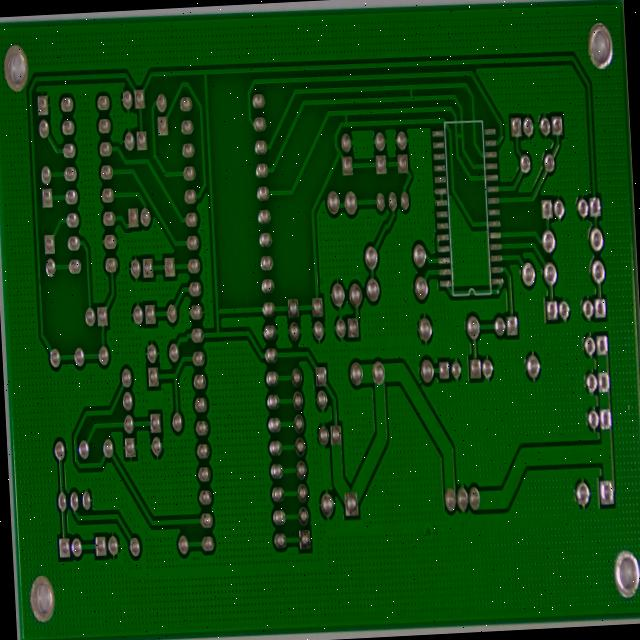short: (318, 4, 334, 32), (439, 24, 452, 53), (388, 0, 401, 2)
